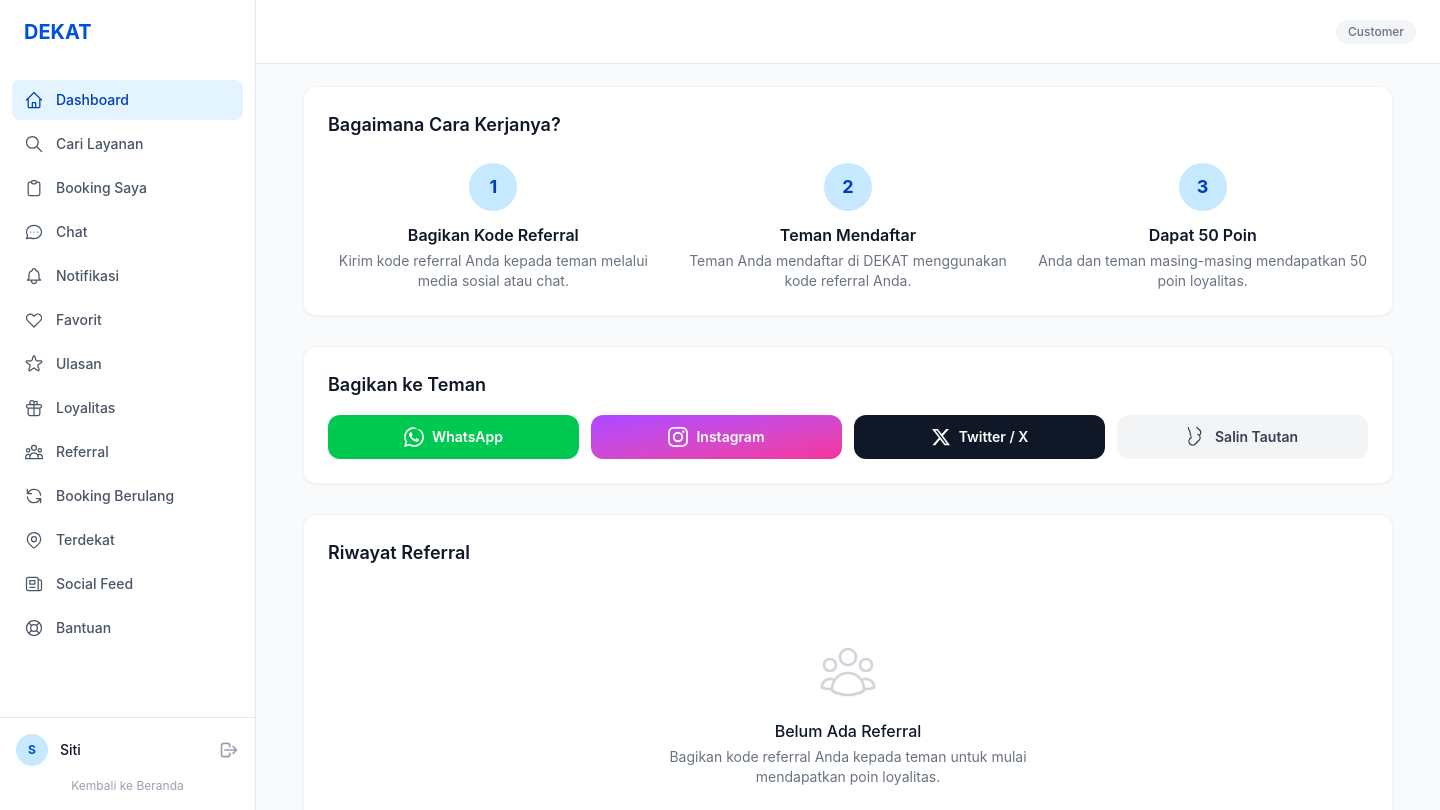
Test: CustomerReferralPage › copy link shows Tersalin feedback
(page scrolled)
Expected: the button "WhatsApp" is shown, [328,415,579,459]
Click the button "Salin Tautan".
click(1242, 437)  # box [1117,415,1368,459]
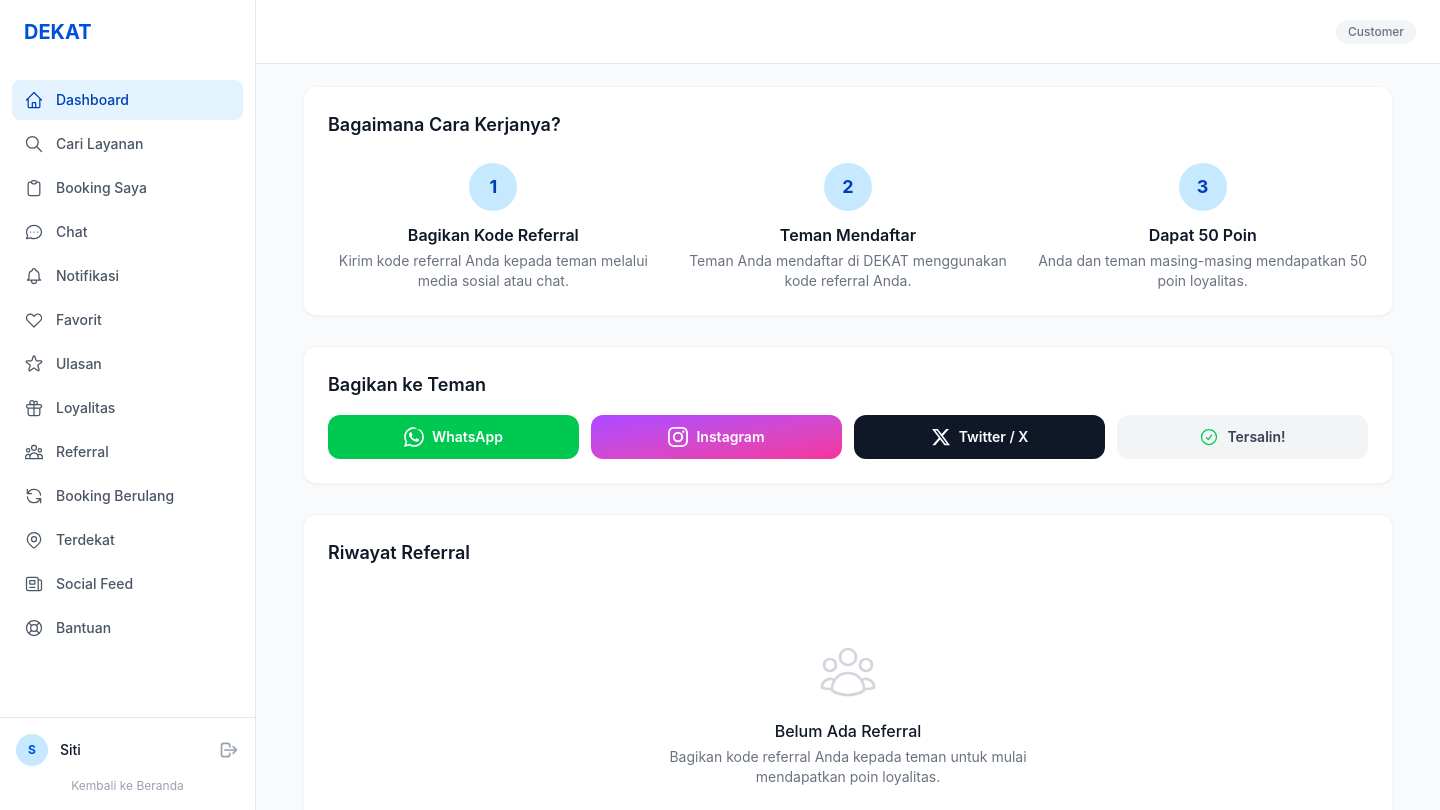
Expected: the button "Tersalin!" is shown, [1117,415,1368,459]
